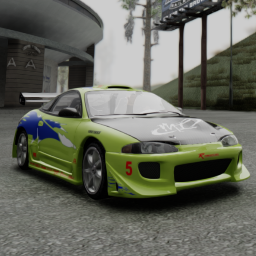car: (9, 83, 253, 206)
